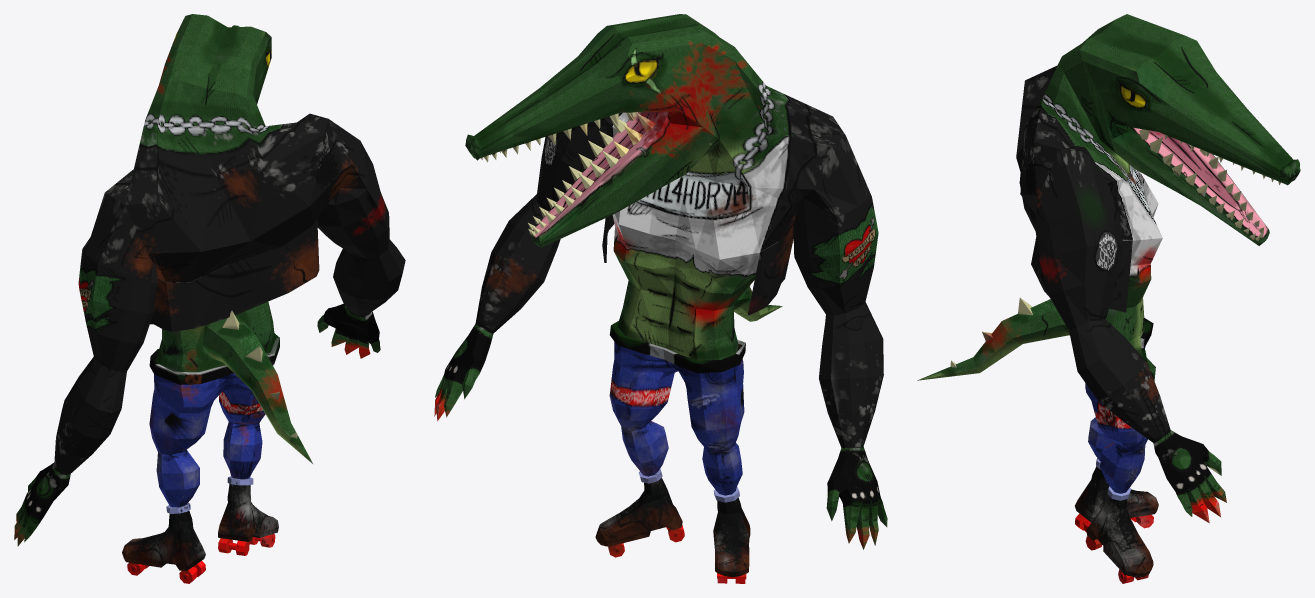
File: cocodrilaBonesSelect_000042.obj
3 renders of one model, left to right at view 1: azimuth 30°, elevation 25°; view 2: azimuth 150°, elevation 25°; view 3: azimuth 270°, elevation 25°, orthographic. The views are drawn at different scales.
Visible parts, largest first — view 1: Crocodile.002_Cylinder.002; view 2: Crocodile.002_Cylinder.002; view 3: Crocodile.002_Cylinder.002.
Part boxes in pixels (left/top/right/bottom): Crocodile.002_Cylinder.002: left=14, top=14, right=405, bottom=583; Crocodile.002_Cylinder.002: left=434, top=14, right=887, bottom=583; Crocodile.002_Cylinder.002: left=917, top=14, right=1300, bottom=583.
Bounding box in the file's own units: 5.31 × 6.7 × 4.44.
